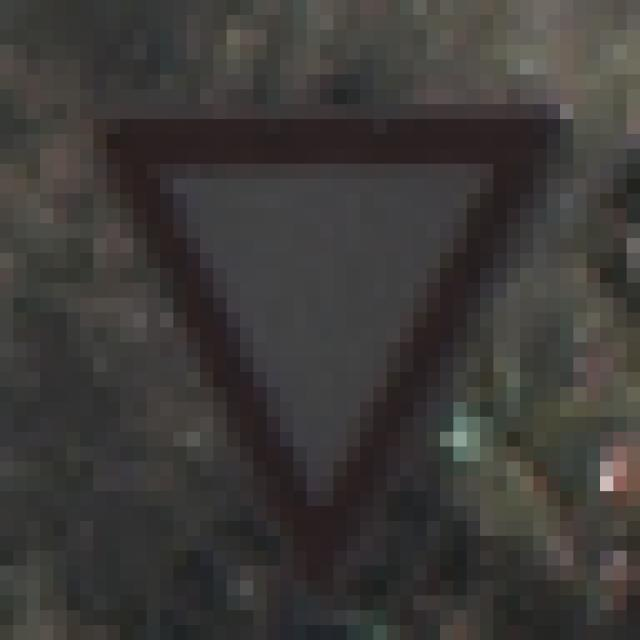Give Way: (68, 76, 574, 567)
